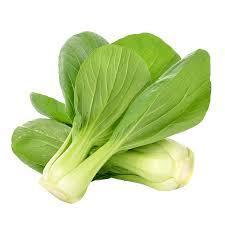Healthy-Pechay: (6, 26, 225, 205)
